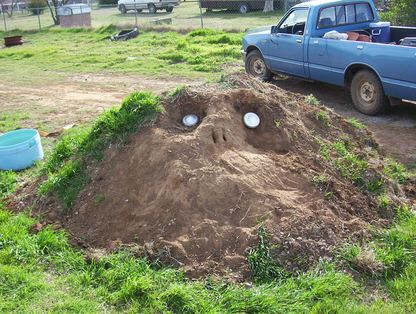car: (116, 0, 179, 12)
truck: (241, 6, 411, 118)
